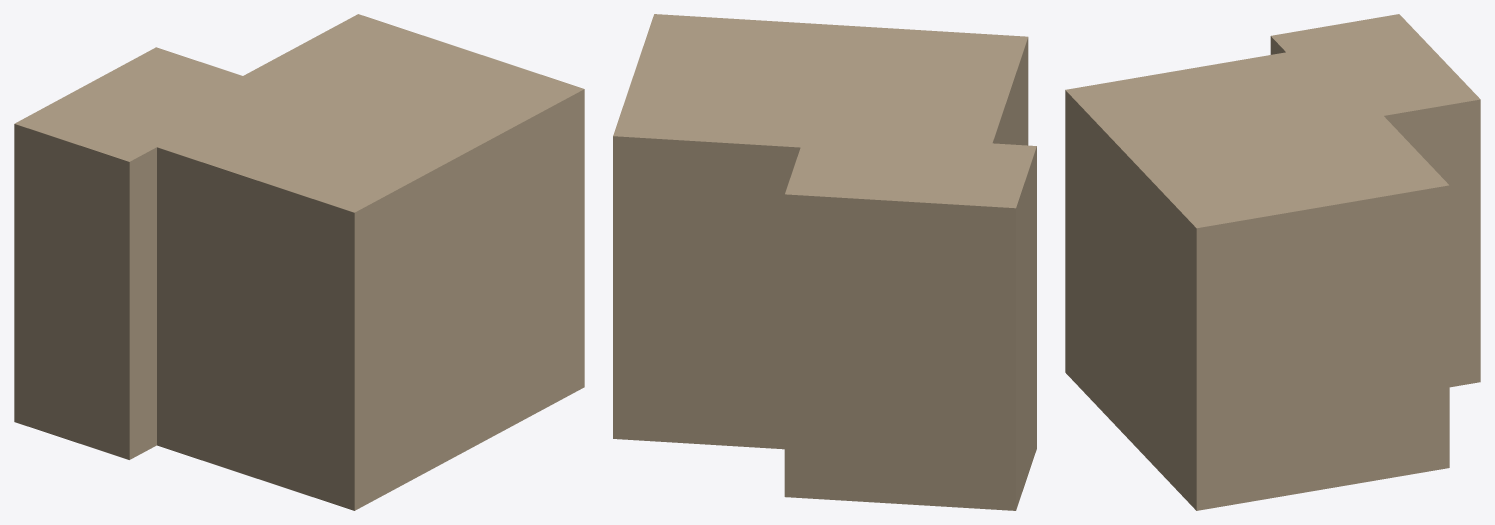
Rendered from bld_107716143.dae.
3 renders of one model, left to right at view 1: azimuth 30°, elevation 25°; view 2: azimuth 150°, elevation 25°; view 3: azimuth 270°, elevation 25°, orthographic. The views are drawn at different scales.
Visible parts, largest first — view 1: bld_107716143; view 2: bld_107716143; view 3: bld_107716143.
Part boxes in pixels (box(x1,y1,x2,y2)): bld_107716143: box(14, 14, 584, 510); bld_107716143: box(613, 14, 1036, 510); bld_107716143: box(1065, 14, 1480, 510).
Bounding box in the file's own units: 13.01 × 10.66 × 8.
